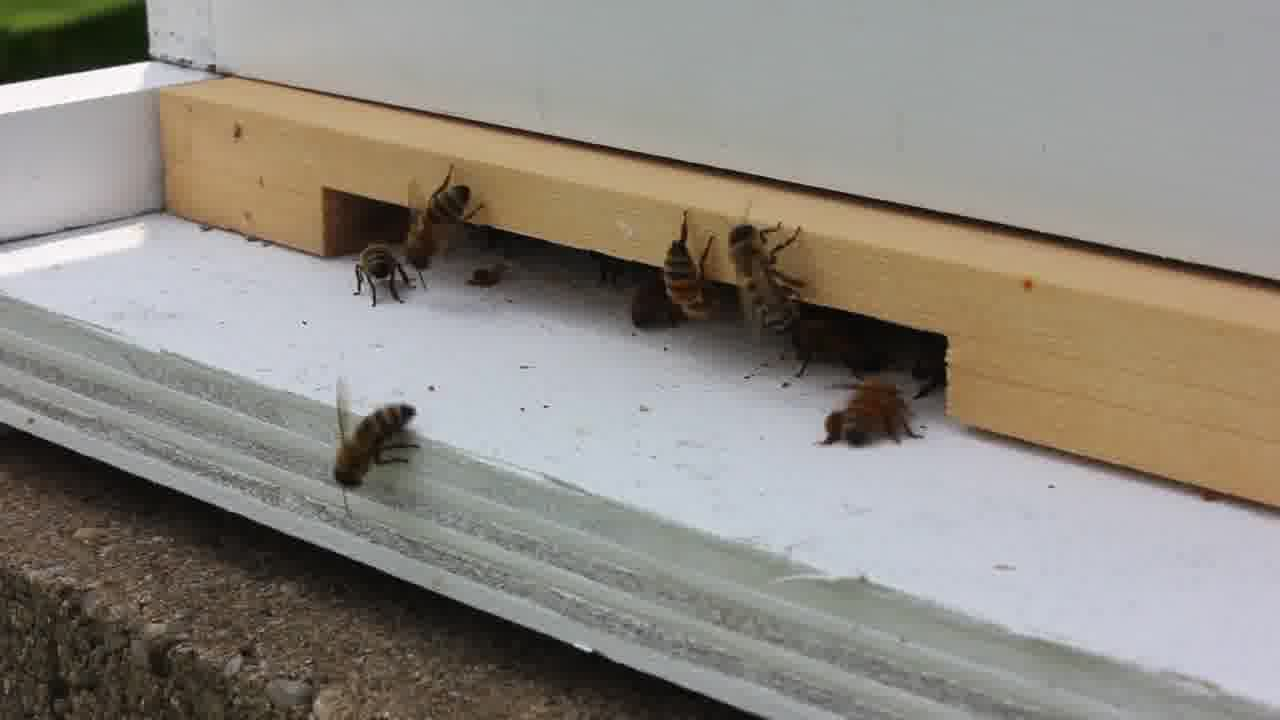pollen: (825, 376, 923, 452)
